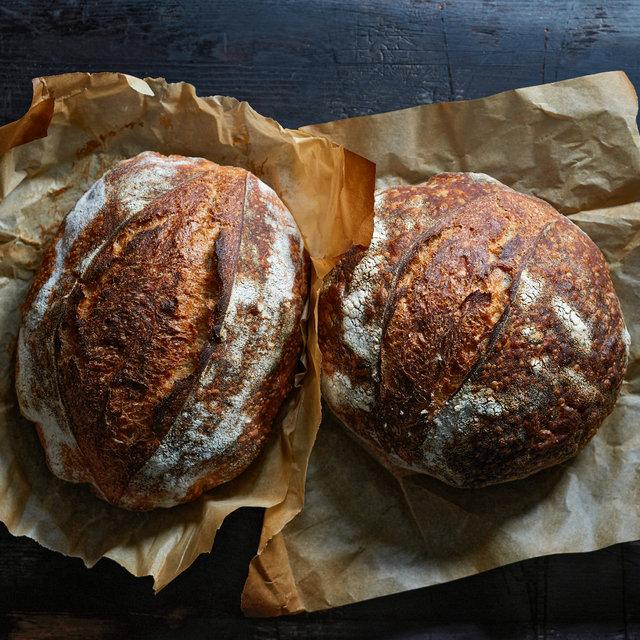Maltese-Bread: (16, 152, 309, 509), (319, 173, 628, 487)
